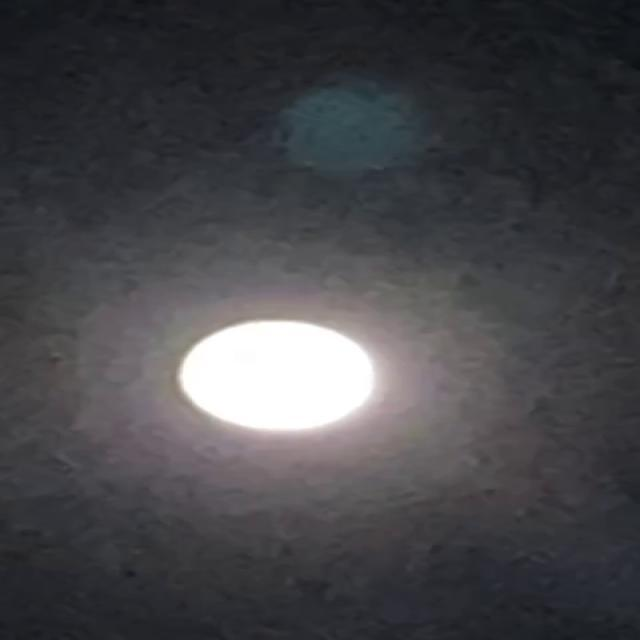moon: (163, 303, 393, 447)
